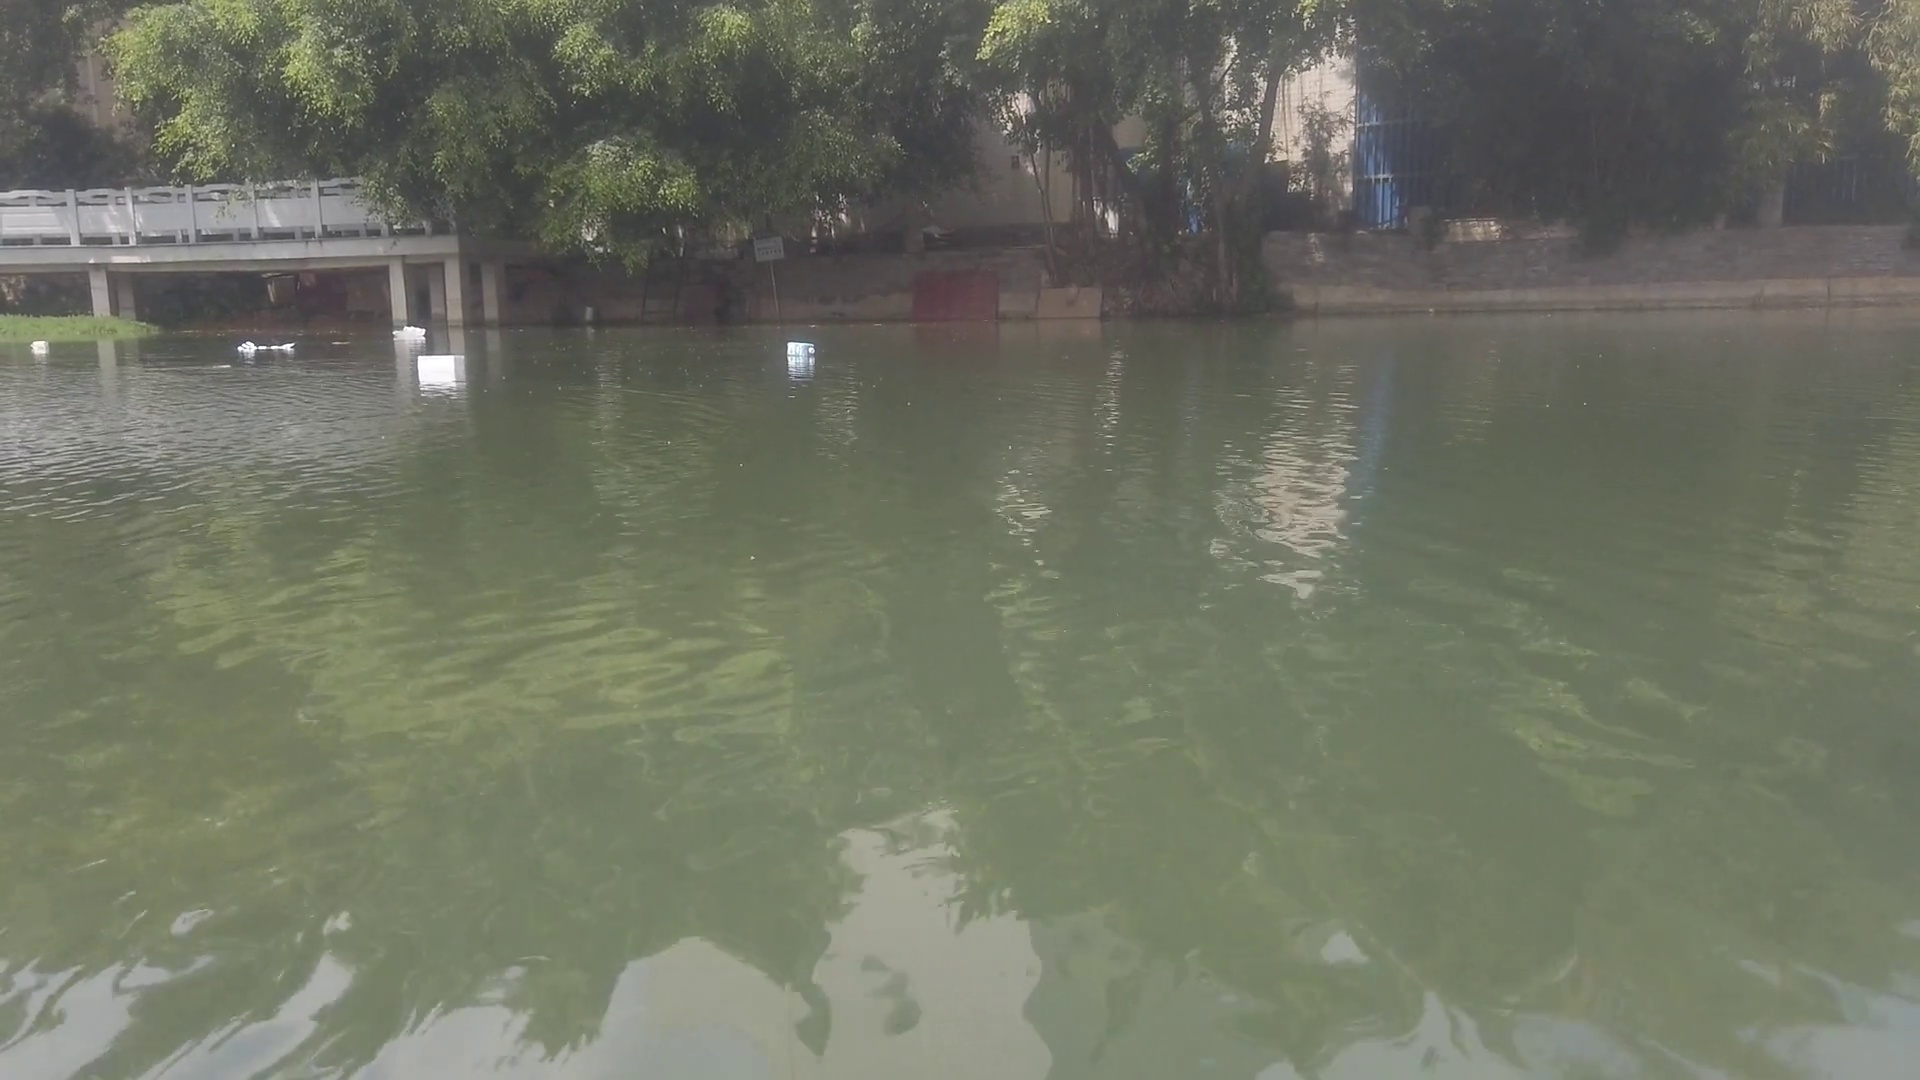carton: (414, 352, 469, 375), (785, 338, 820, 356), (26, 338, 51, 353)
paper: (233, 338, 299, 353), (210, 357, 233, 375), (334, 334, 351, 348)
plastic: (390, 324, 426, 340)
